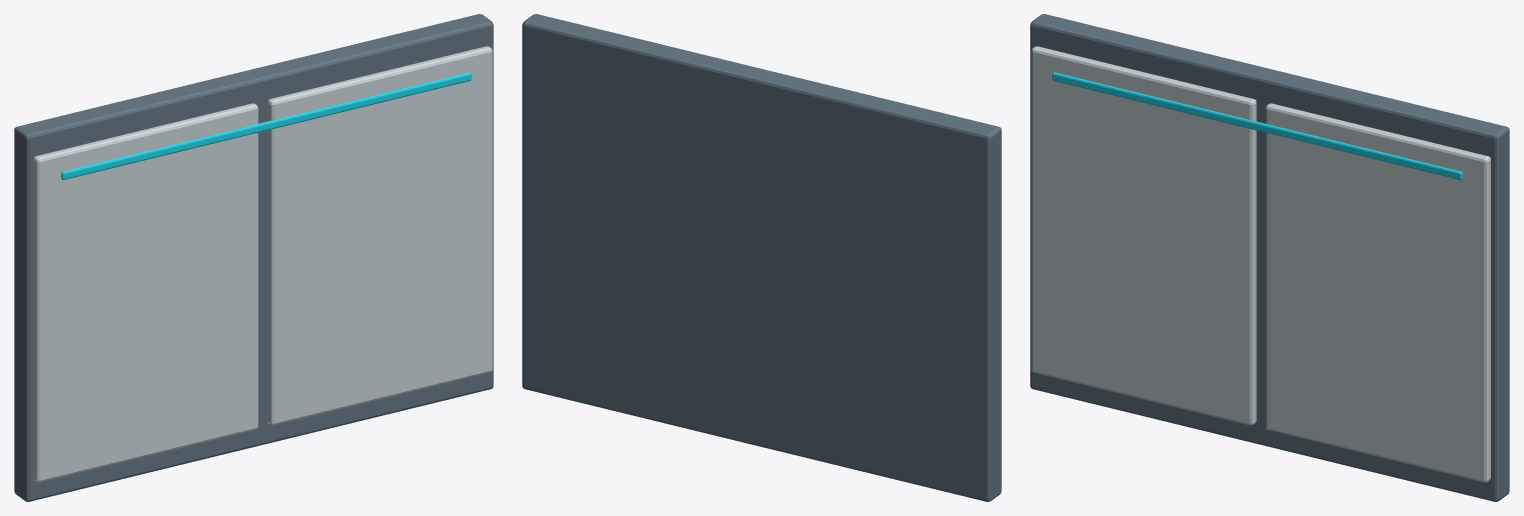
File: CL_Wall_4x3.fbx
3 views of the same model, side by side, from view 1: azimuth 30°, elevation 25°; view 2: azimuth 150°, elevation 25°; view 3: azimuth 330°, elevation 25° (orthographic).
Parts seen in each view (by area): view 1: WallPanel, WallPanel.001, WallBacking, TimeStrip; view 2: WallBacking; view 3: WallPanel.001, WallPanel, WallBacking, TimeStrip.
Boxes of the visible parts, x1,y1,x2,y2 form: WallPanel: (33,103,258,482); WallPanel.001: (267,46,492,425); WallBacking: (14,14,493,501); TimeStrip: (61,72,471,179); WallBacking: (522,14,1001,501); WallPanel.001: (1265,103,1490,482); WallPanel: (1031,46,1256,425); WallBacking: (1030,14,1509,501); TimeStrip: (1052,72,1462,179).
Bounding box in the file's own units: 4 × 3 × 0.3.
